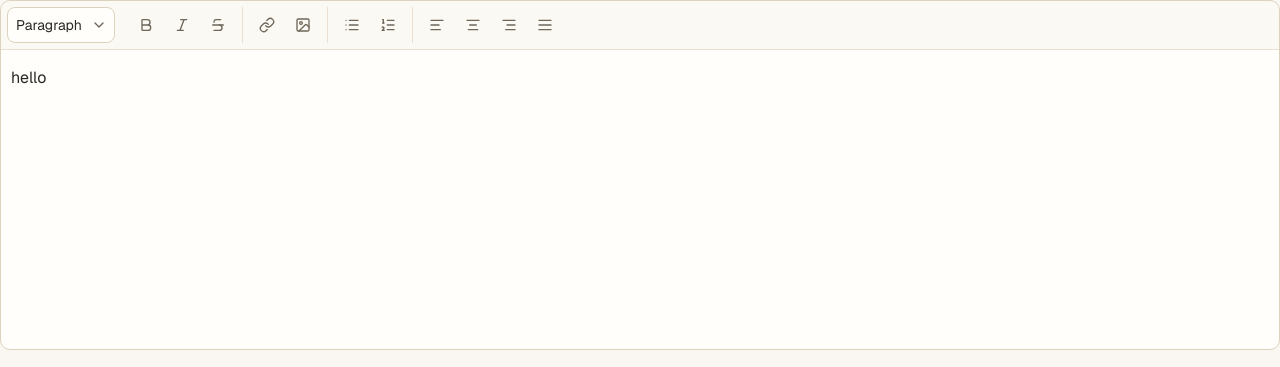
Scenario: Tiptap toolbar › clears the error once the url is edited
The image size is (1280, 367).
Click the button named "Add or edit a link" at (267, 25), box x1=249 y1=7 x2=285 y2=43
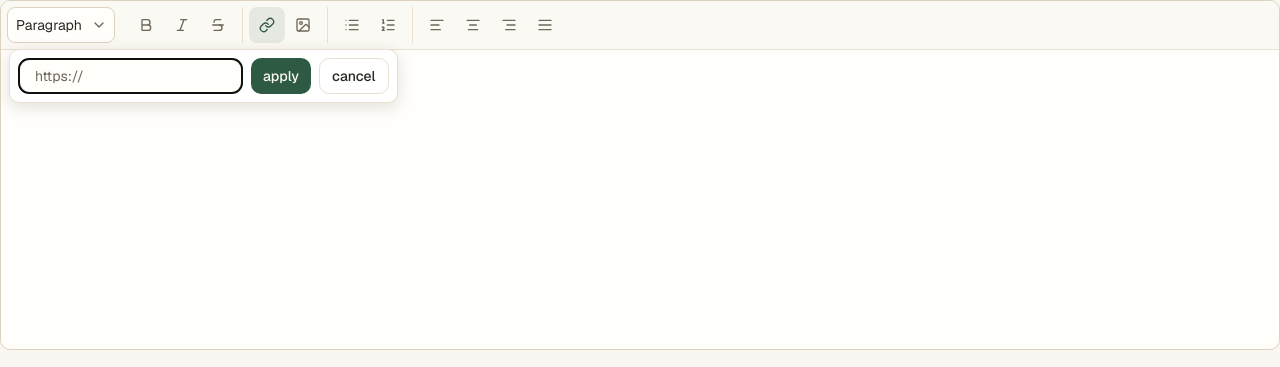
Type "javascript:alert(1)" into the field named "link url" at (130, 76), box x1=18 y1=58 x2=243 y2=94
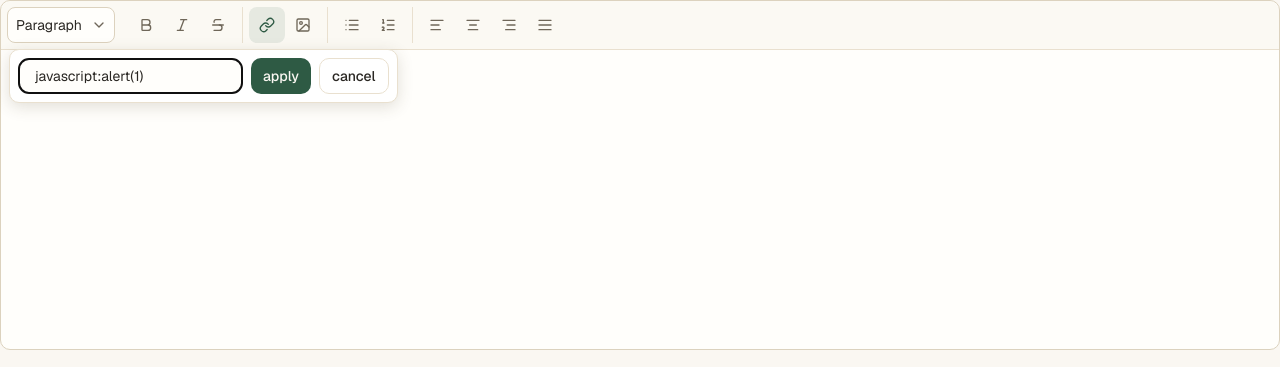
Click the button "apply" at (281, 76), box x1=251 y1=58 x2=311 y2=94
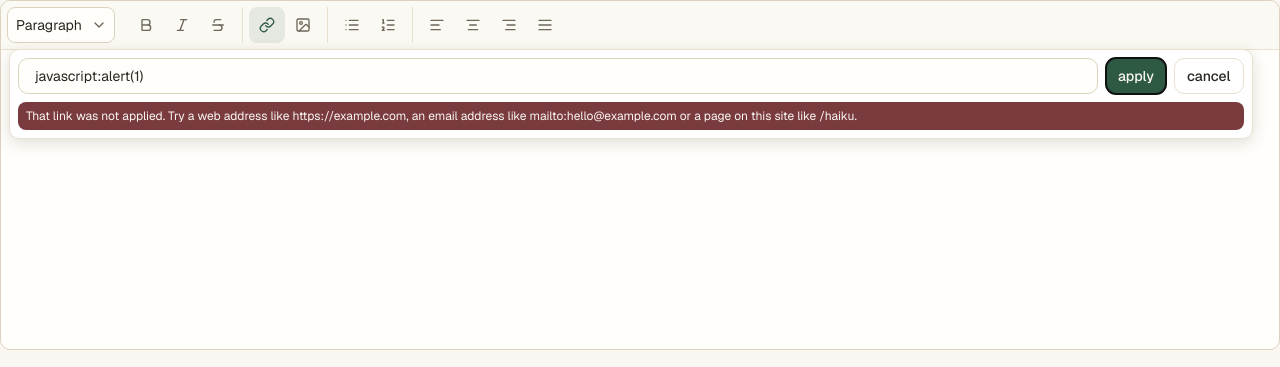
Expected: the message is shown, x1=18 y1=102 x2=1244 y2=130
Type "!" into the field named "link url" at (558, 76), box x1=18 y1=58 x2=1098 y2=94
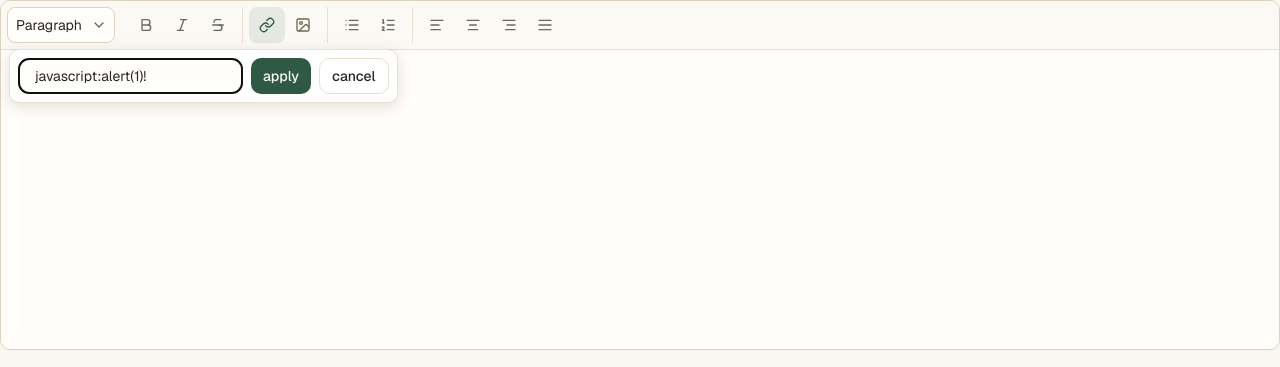
Expected: the message "That link was not applied. Try a web address like https://example.com, an email" is gone
